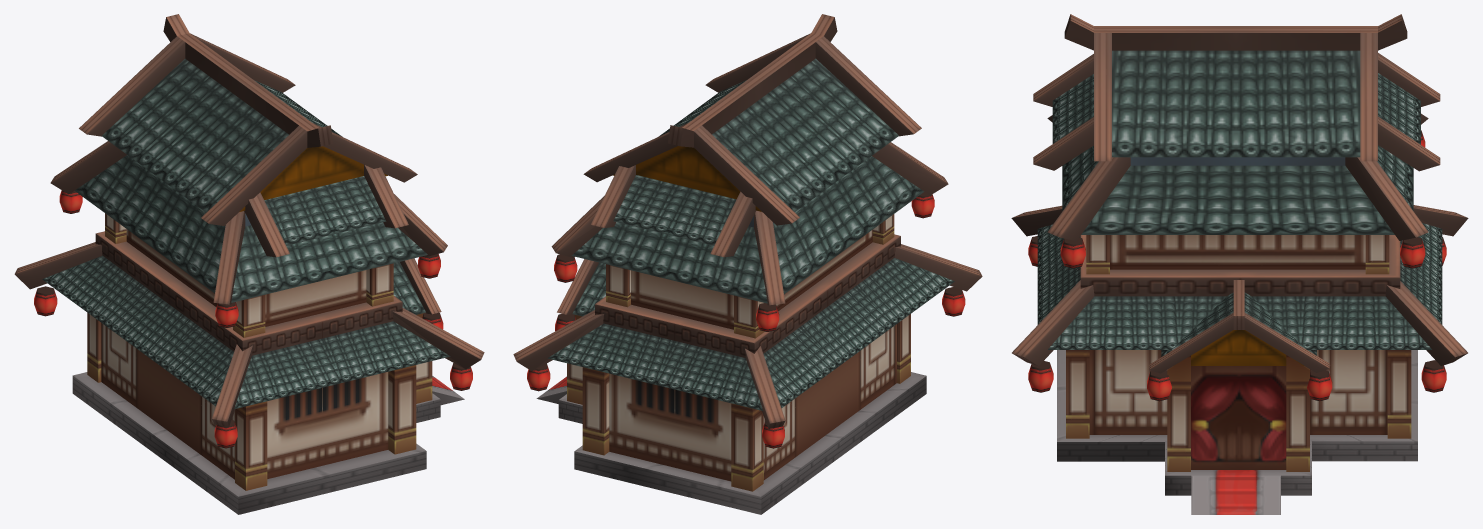
File: QSMY_City_JiuGuan.FBX
3 renders of one model, left to right at view 1: azimuth 30°, elevation 25°; view 2: azimuth 150°, elevation 25°; view 3: azimuth 270°, elevation 25°, orthographic. The views are drawn at different scales.
Visible parts, largest first — view 1: Object131, Object22; view 2: Object131, Object22; view 3: Object131, Object22.
Part boxes in pixels (x1=…): Object131: x1=14, y1=14, x2=484, y2=514; Object22: x1=42, y1=58, x2=450, y2=409; Object131: x1=513, y1=14, x2=982, y2=514; Object22: x1=547, y1=58, x2=954, y2=410; Object131: x1=1011, y1=14, x2=1468, y2=514; Object22: x1=1037, y1=50, x2=1442, y2=356.
Bounding box in the file's own units: 16.79 × 17.58 × 18.51.
